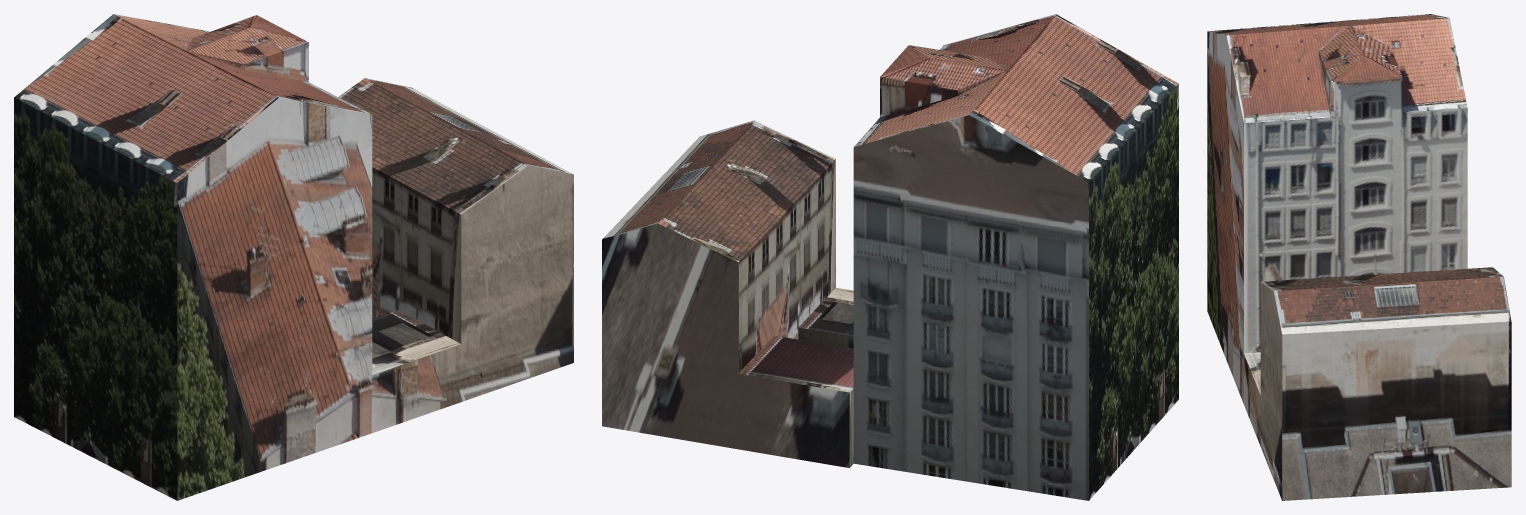
The picture shows the model from 3 angles, left to right: view 1: azimuth 30°, elevation 25°; view 2: azimuth 150°, elevation 25°; view 3: azimuth 270°, elevation 25°; orthographic projection. The views are drawn at different scales.
Parts seen in each view (by area): view 1: Z_UP; view 2: Z_UP; view 3: Z_UP.
Part boxes in pixels (left/top/right/bottom): Z_UP: left=14, top=14, right=573, bottom=500; Z_UP: left=602, top=14, right=1178, bottom=500; Z_UP: left=1207, top=14, right=1511, bottom=500.
Size of the model in its own units: 36.12 by 26.78 by 22.66.
Materials: 2 (1 with a texture image).
